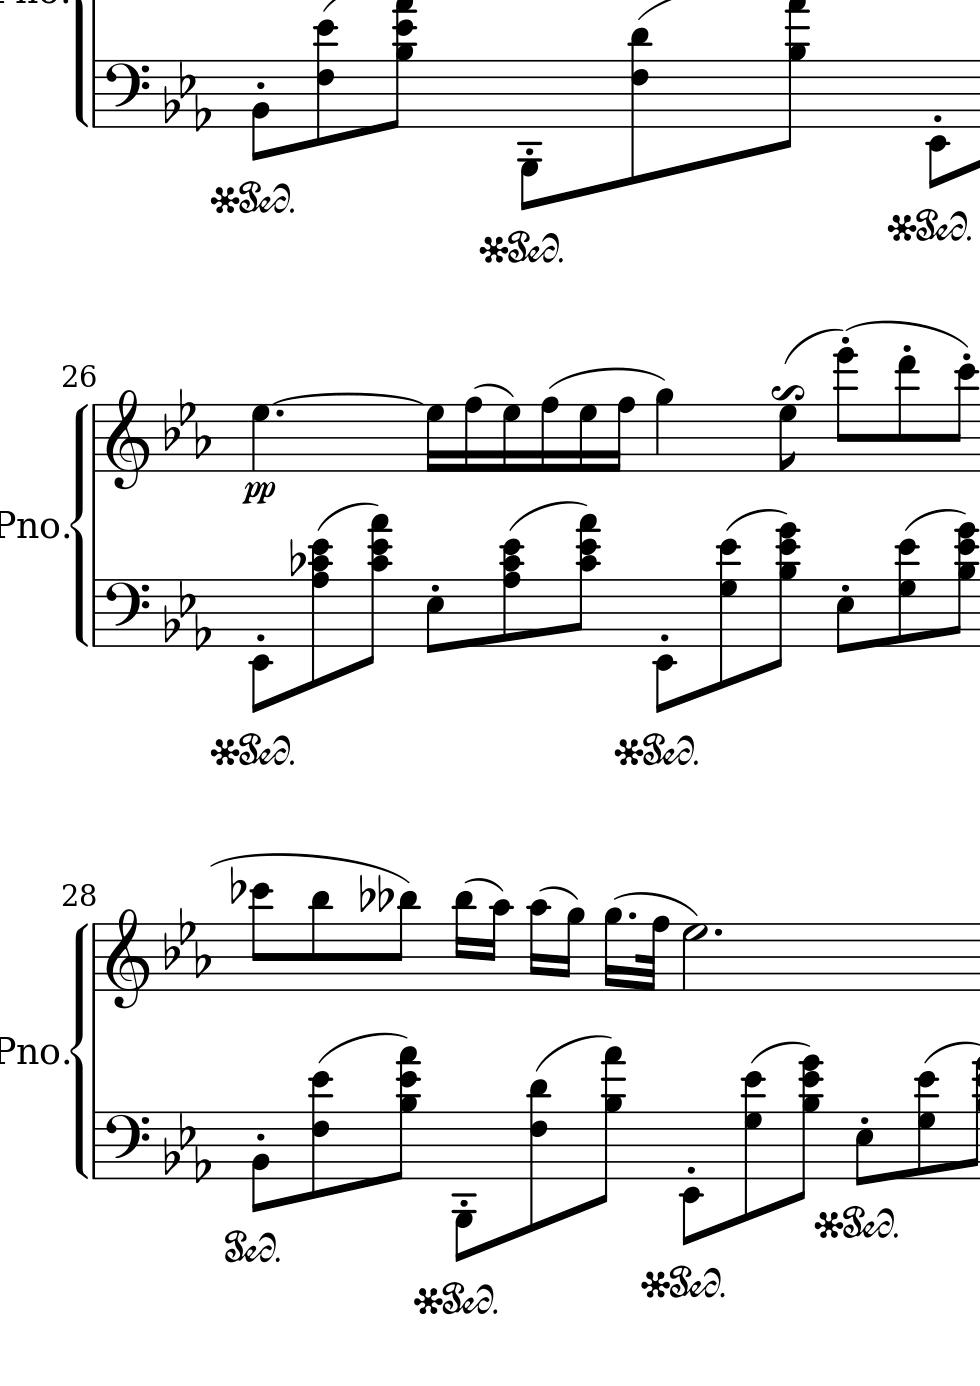16_10: (484, 898, 515, 992), (526, 897, 550, 992)
16_11: (450, 889, 476, 992)
16_7: (577, 403, 598, 475), (500, 403, 521, 474), (425, 403, 445, 474)
16_8: (607, 394, 636, 474), (538, 396, 559, 474), (462, 396, 482, 474)
16_9: (558, 906, 587, 993), (601, 907, 622, 992)
2: (60, 363, 78, 389), (60, 882, 78, 908)
2_7: (680, 922, 707, 994)
32_8: (638, 915, 670, 992)
4_7: (250, 403, 272, 473)
4_9: (652, 387, 675, 475)
6: (78, 362, 97, 390)
8: (78, 881, 97, 908)
8_-2: (677, 1107, 705, 1246), (651, 575, 679, 714), (247, 578, 274, 714), (924, 56, 950, 190)
8_-5: (451, 1109, 479, 1264), (518, 58, 544, 211)
8_11: (387, 891, 419, 994), (309, 892, 332, 993)
8_12: (946, 362, 977, 475), (250, 882, 274, 993)
8_13: (895, 354, 918, 476)
8_14: (833, 348, 858, 477)
8_2: (249, 1110, 270, 1214), (249, 59, 270, 162)
8_5: (834, 579, 856, 656), (424, 578, 445, 656), (853, 1111, 874, 1188)
8_6_11: (527, 1078, 552, 1232), (629, 27, 652, 185)
8_6_12: (307, 1070, 335, 1200), (312, 18, 339, 145)
8_7: (777, 404, 798, 474)
8_7_12: (715, 537, 742, 689), (741, 1071, 767, 1221), (895, 537, 922, 648), (914, 1070, 939, 1180)
8_th: (784, 1053, 825, 1207), (355, 510, 393, 673), (764, 521, 802, 673), (378, 1, 416, 138), (387, 1042, 421, 1185), (570, 512, 601, 647), (307, 537, 333, 694), (947, 521, 977, 648), (497, 536, 524, 649)
Brace: (68, 401, 90, 648), (70, 922, 89, 1182)
E_F: (160, 578, 213, 652), (161, 386, 213, 461), (160, 59, 214, 131), (161, 906, 213, 980), (161, 1110, 213, 1183)
Fclef: (102, 58, 148, 130), (103, 1109, 148, 1181), (103, 577, 148, 648)
Flat: (373, 872, 392, 914), (358, 871, 377, 913), (288, 536, 305, 578), (228, 864, 244, 905)
Gclef: (105, 386, 150, 490), (105, 906, 148, 1010)
Inverted_turn: (768, 383, 806, 403)
Pno: (1, 1032, 62, 1067), (1, 507, 60, 542)
Single_barline: (88, 924, 102, 992), (88, 405, 102, 472), (88, 580, 102, 647), (88, 1113, 102, 1179), (88, 62, 101, 128)
Slur: (209, 853, 409, 885), (847, 319, 969, 348), (533, 1034, 612, 1071), (545, 366, 667, 389), (317, 1033, 405, 1063), (509, 498, 587, 528), (270, 393, 424, 406), (788, 326, 841, 362), (317, 501, 377, 532), (751, 1040, 808, 1066), (725, 508, 785, 532), (923, 1040, 980, 1065), (905, 508, 963, 531), (537, 885, 578, 902), (474, 382, 514, 398), (463, 876, 503, 892)
dot: (711, 925, 725, 938), (273, 407, 285, 420), (626, 909, 638, 922)
pp: (240, 479, 275, 505)
